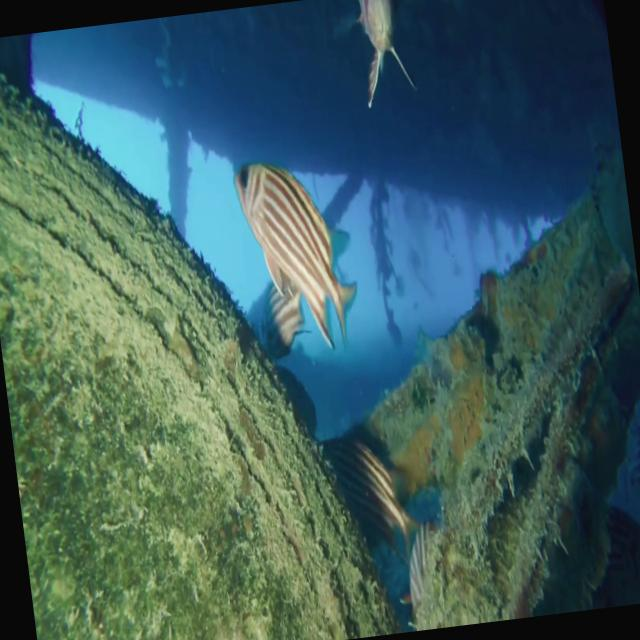Asker Baligi: (230, 149, 366, 363)
